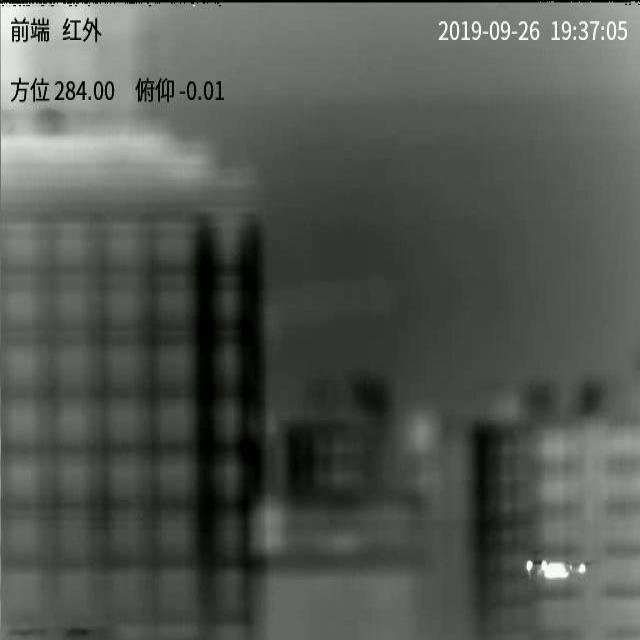drone: (526, 560, 589, 580)
